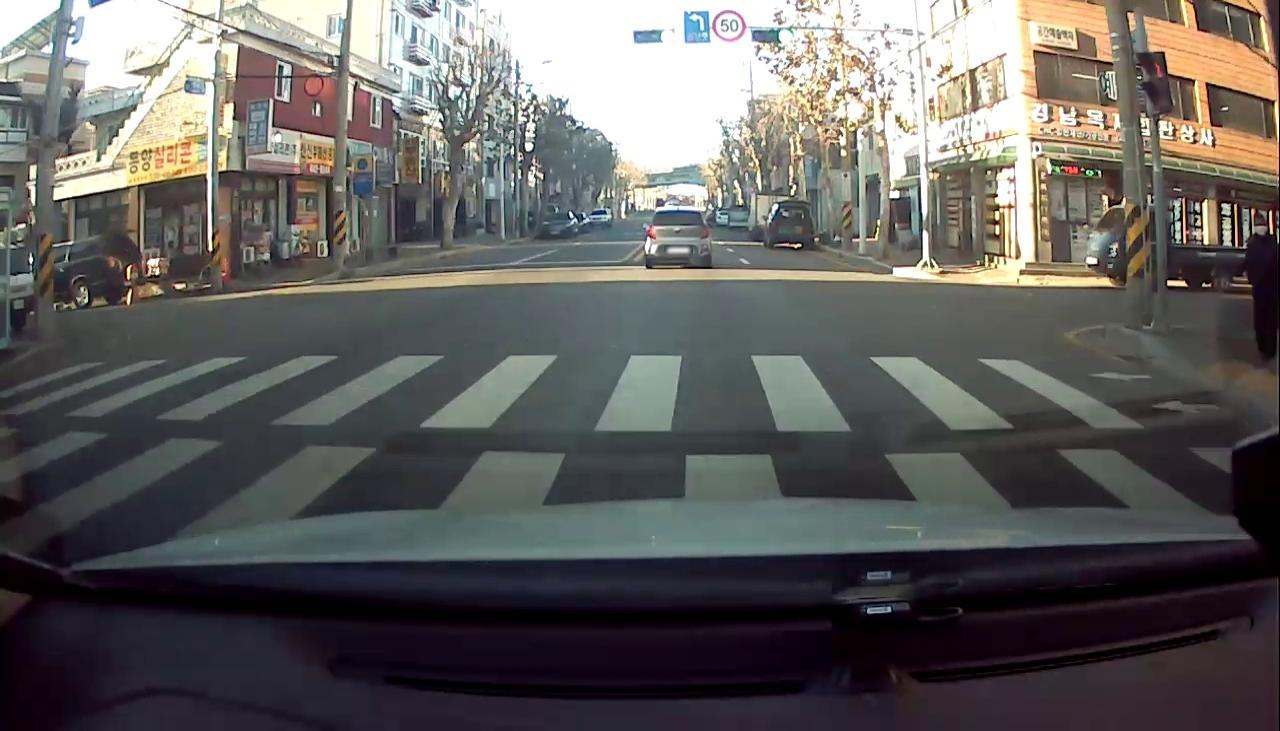Green Light: (659, 28, 676, 46), (778, 28, 794, 44)
